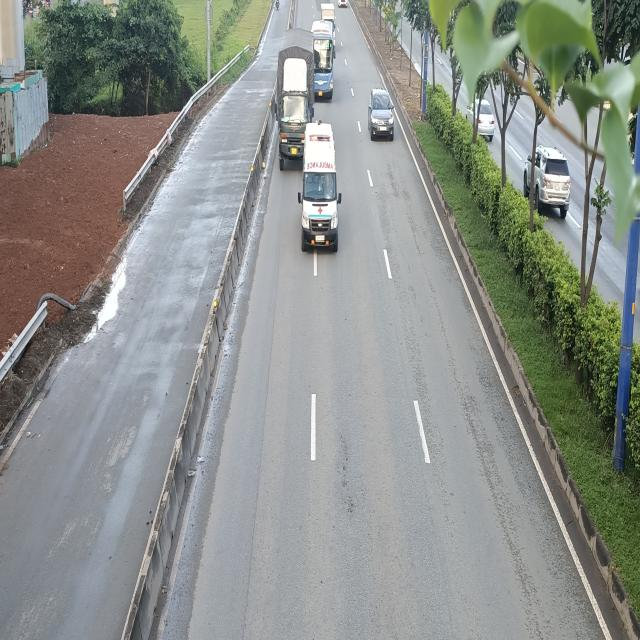car: (369, 88, 396, 140)
coach: (312, 22, 339, 102)
truck: (275, 27, 314, 164)
van: (301, 120, 344, 250)
